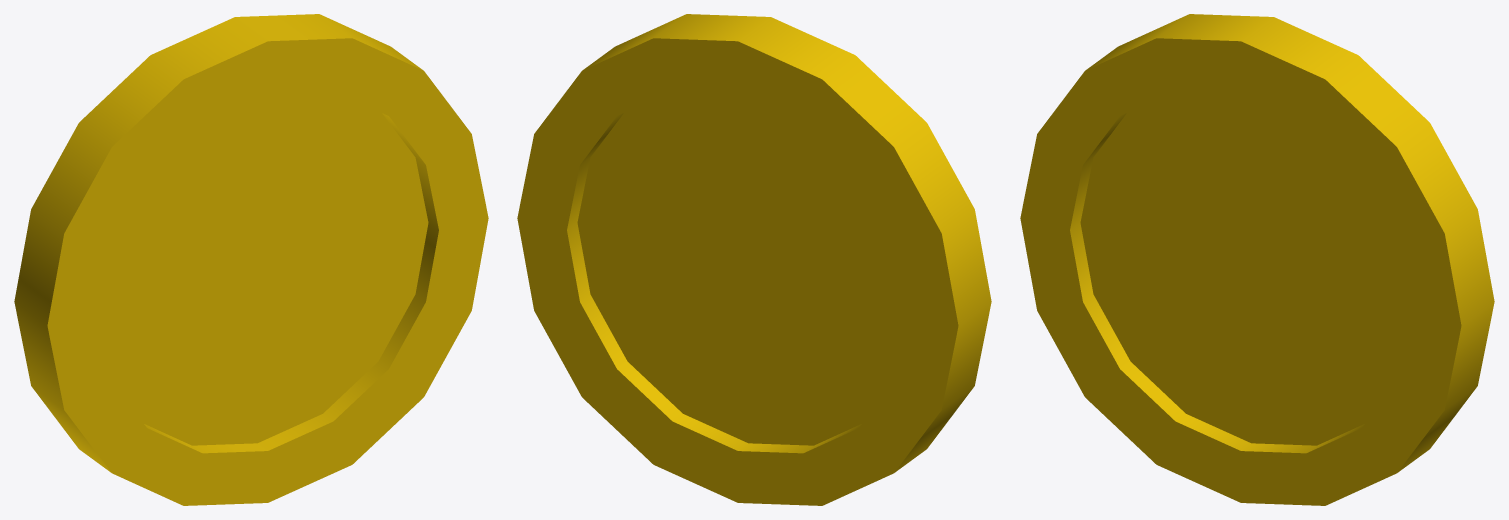
The model's file is Moeda.fbx.
3 views of the same model, side by side, from view 1: azimuth 30°, elevation 25°; view 2: azimuth 150°, elevation 25°; view 3: azimuth 330°, elevation 25° (orthographic).
Visible parts, largest first — view 1: Cylinder; view 2: Cylinder; view 3: Cylinder.
Boxes of the visible parts, bbox=[...] form: Cylinder: bbox=[14, 14, 488, 505]; Cylinder: bbox=[517, 14, 991, 505]; Cylinder: bbox=[1020, 14, 1494, 505].
Bounding box in the file's own units: 105 × 105 × 13.7.
